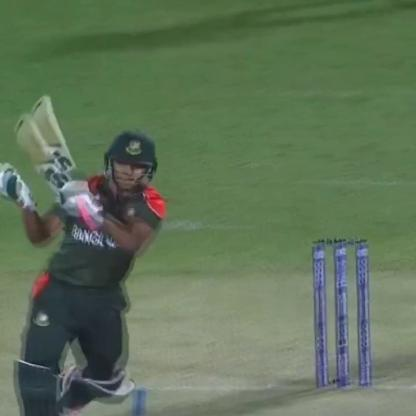bat: (14, 92, 104, 220)
